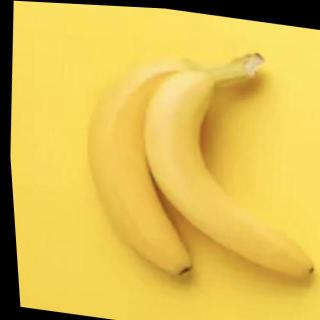banana: (125, 62, 320, 280), (66, 40, 212, 280)
